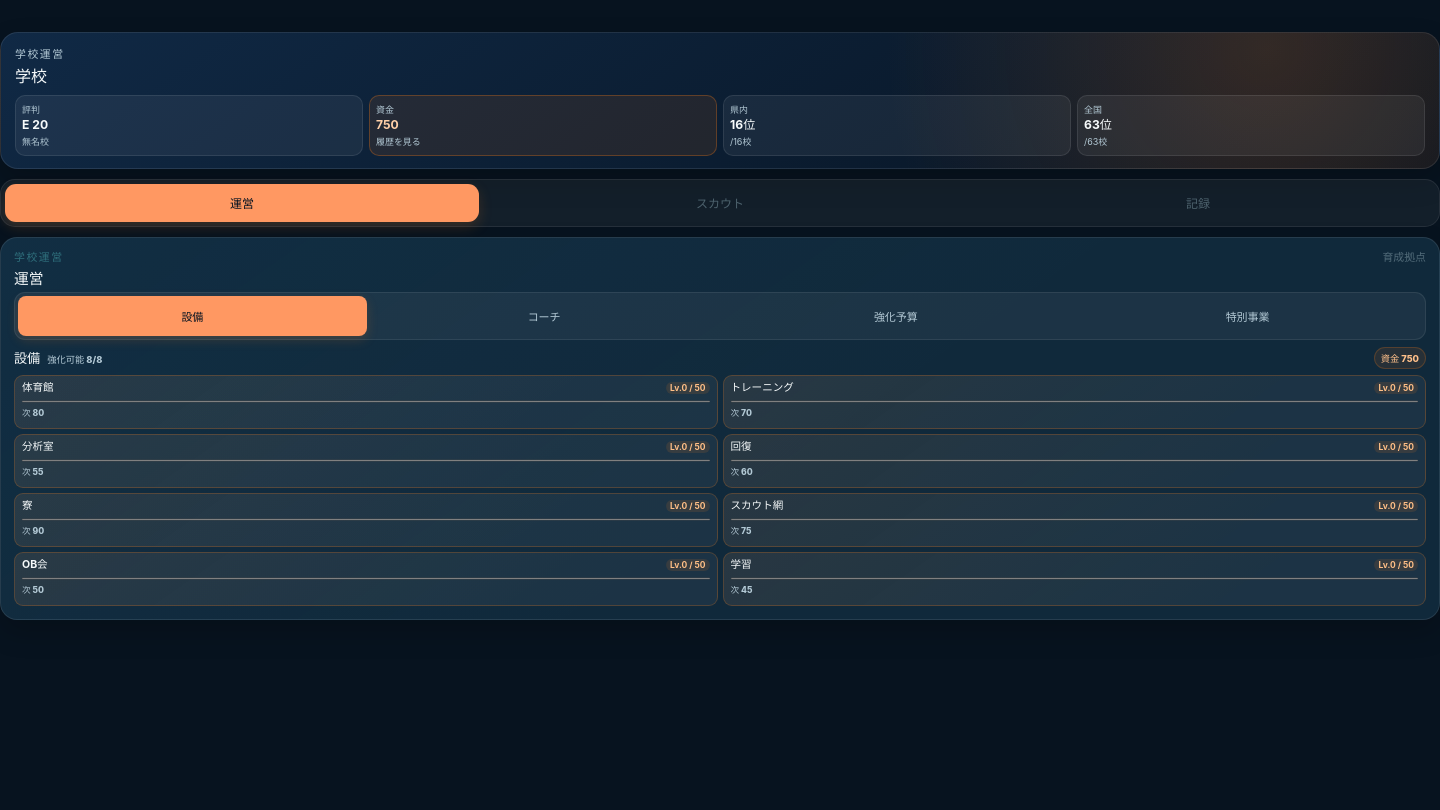
Scenario: school management screen › switches School management between facilities and coaches
The image size is (1440, 810).
Check: the heading "設備" is shown, box [14,348,40,367]
Check: the heading "スタッフ" is not shown
Click the tab "コーチ".
click(544, 316)  # box [370,296,719,336]
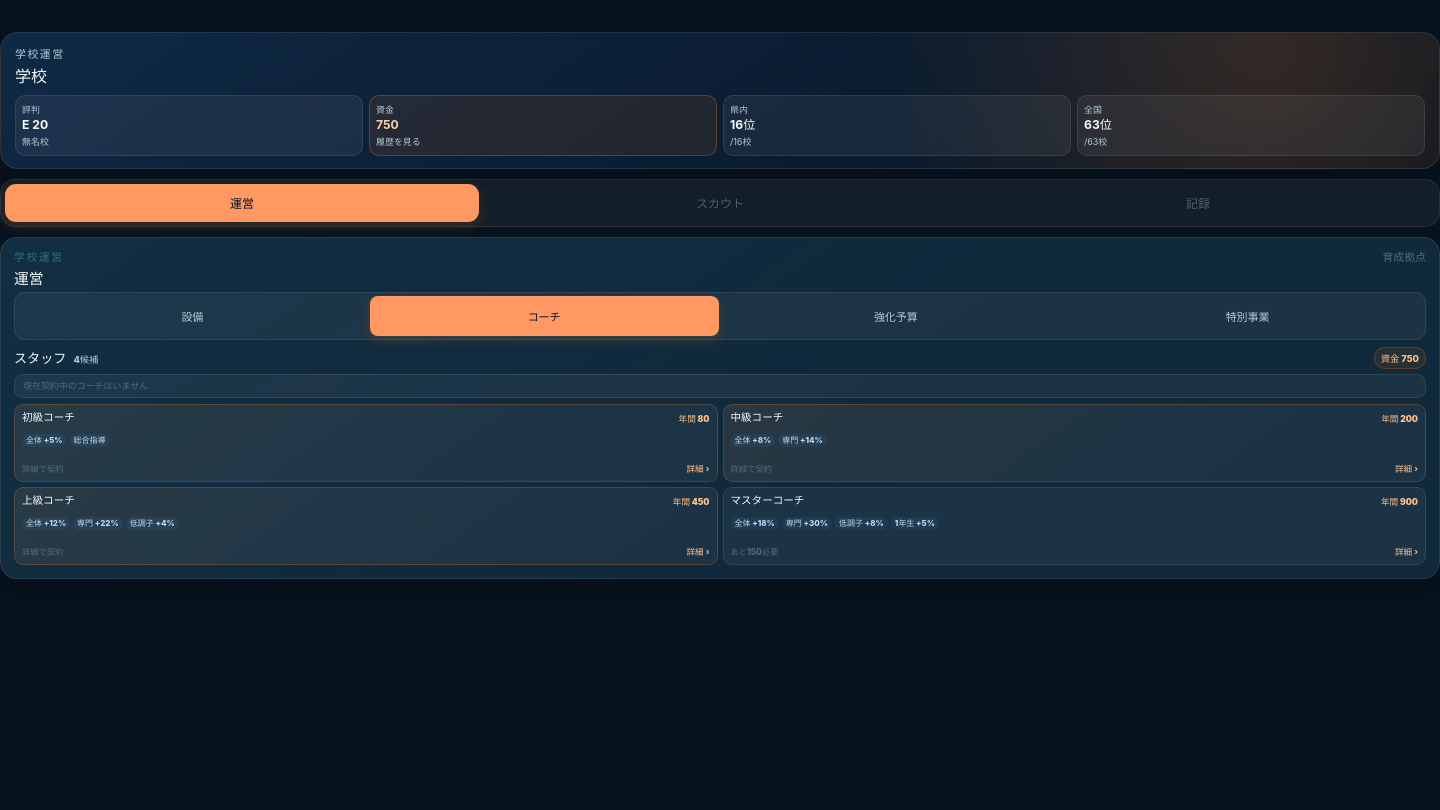
Check: the heading "スタッフ" is shown, box [14,348,66,367]
